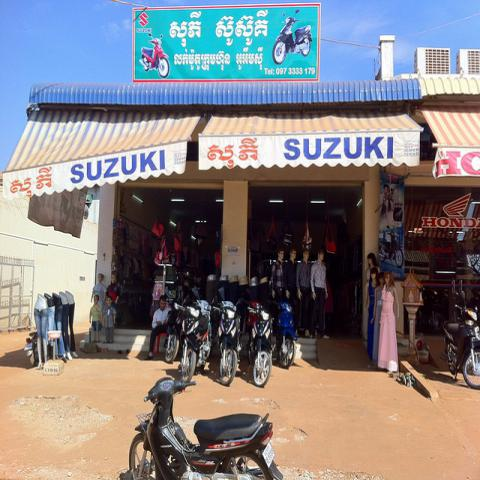motorcycle: (128, 377, 283, 473), (438, 303, 480, 390), (174, 302, 212, 382), (246, 306, 276, 388), (214, 299, 242, 385), (274, 299, 297, 368)
